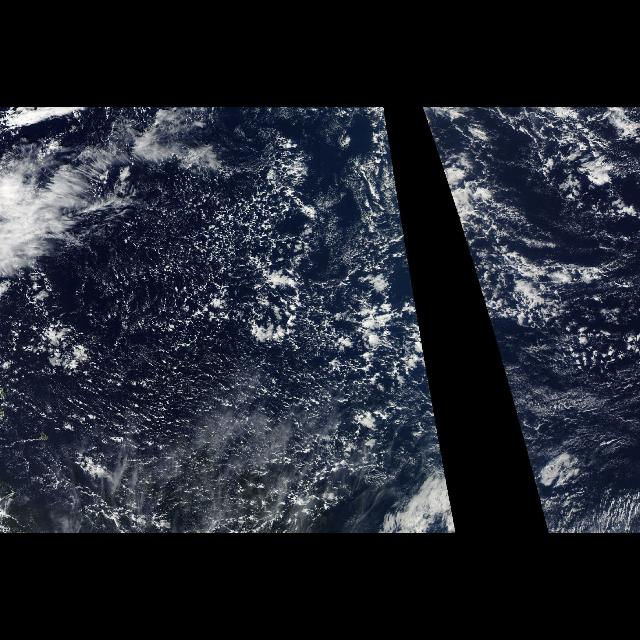Gravel: (97, 127, 439, 518), (428, 127, 439, 159)
Sugar: (48, 323, 442, 511)
